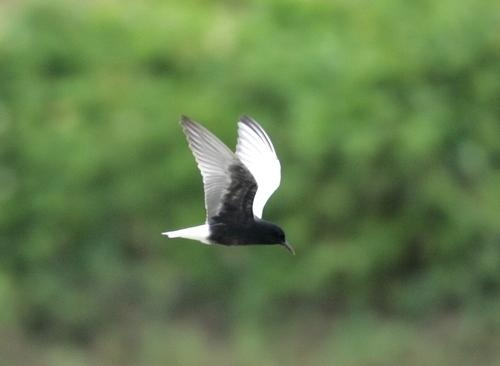bird: (158, 115, 298, 259)
